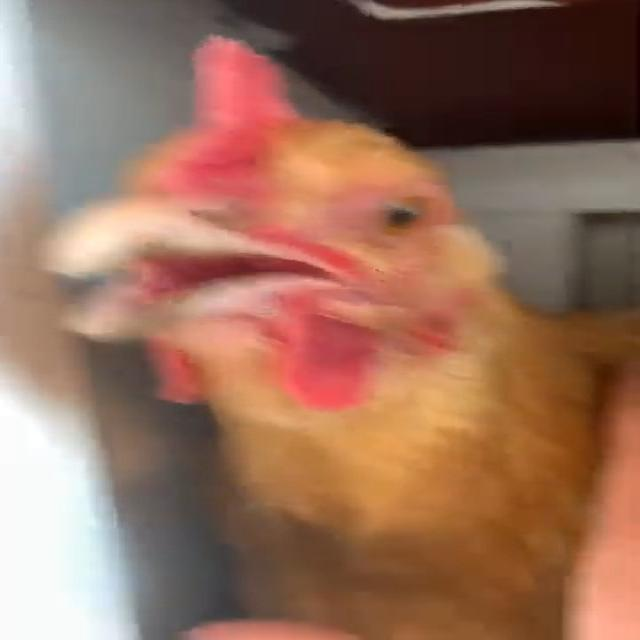Breathing: (41, 32, 636, 639)
